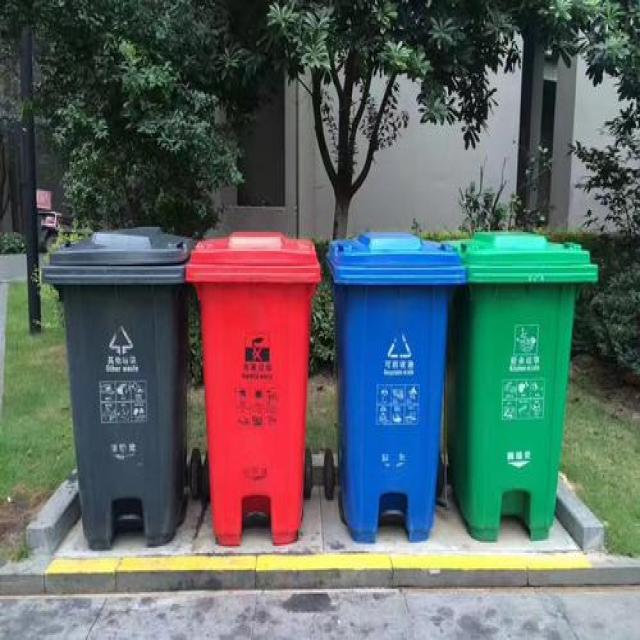garbage_bin: (41, 225, 192, 548), (442, 229, 596, 539), (325, 232, 466, 541), (184, 230, 320, 544)
